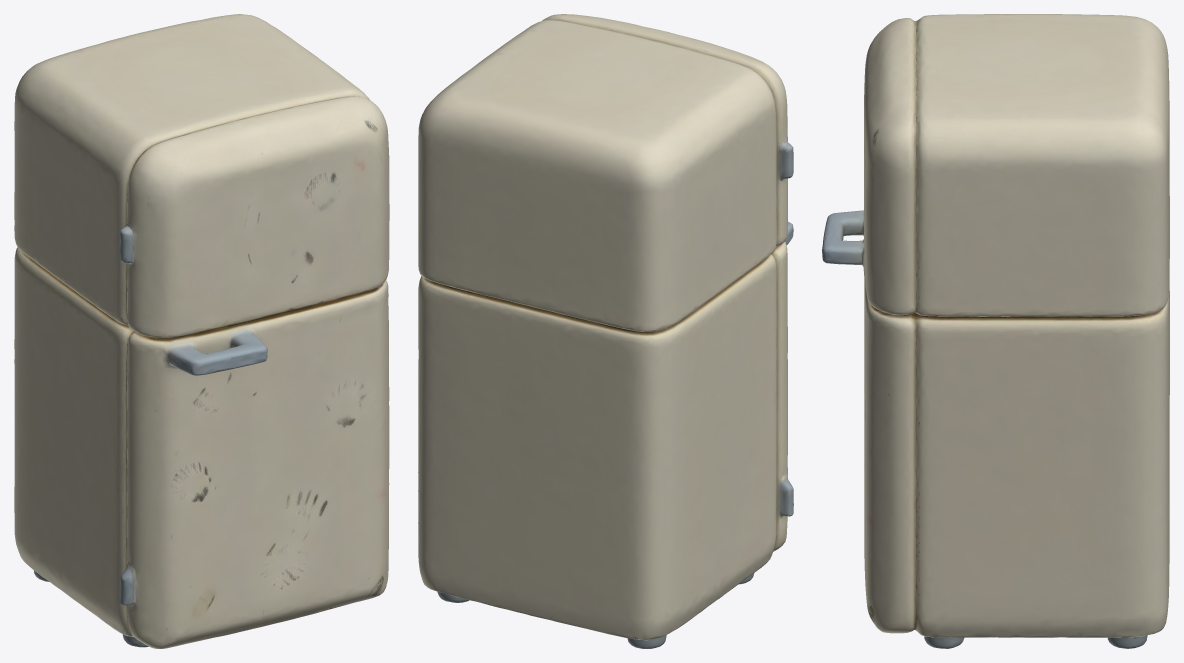
Rendered from fridge.glb.
3 views of the same model, side by side, from view 1: azimuth 30°, elevation 25°; view 2: azimuth 150°, elevation 25°; view 3: azimuth 270°, elevation 25° (orthographic). The views are drawn at different scales.
Parts seen in each view (by area): view 1: Mesh; view 2: Mesh; view 3: Mesh.
Part boxes in pixels (x1,y1,x2,y2): Mesh: (14, 14, 389, 648); Mesh: (418, 14, 793, 648); Mesh: (822, 14, 1169, 648).
Size of the model in its own units: 1.02 by 1.89 by 1.12.
Materials: 1 (1 with a texture image).
